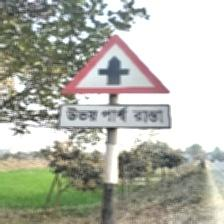Crossroad: (58, 34, 173, 132)
